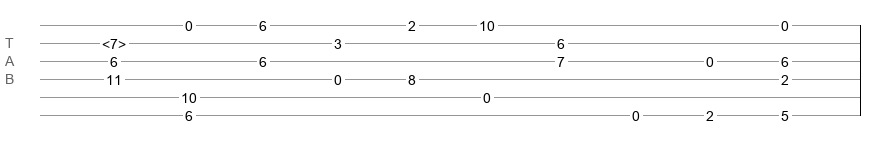0: (185, 18, 193, 28), (334, 72, 342, 82), (483, 90, 491, 100), (632, 108, 640, 118), (706, 54, 714, 64), (781, 18, 789, 28)
10: (181, 90, 197, 100), (479, 18, 495, 28)
11: (106, 72, 122, 82)
2: (408, 18, 416, 28), (706, 108, 714, 118), (781, 72, 789, 82)
3: (334, 36, 342, 46)
5: (781, 108, 789, 118)
6: (110, 54, 118, 64), (185, 108, 193, 118), (259, 54, 267, 64), (259, 18, 267, 28), (557, 36, 565, 46), (781, 54, 789, 64)
7: (557, 54, 565, 64)
8: (408, 72, 416, 82)
harmonic: (102, 36, 126, 46)
